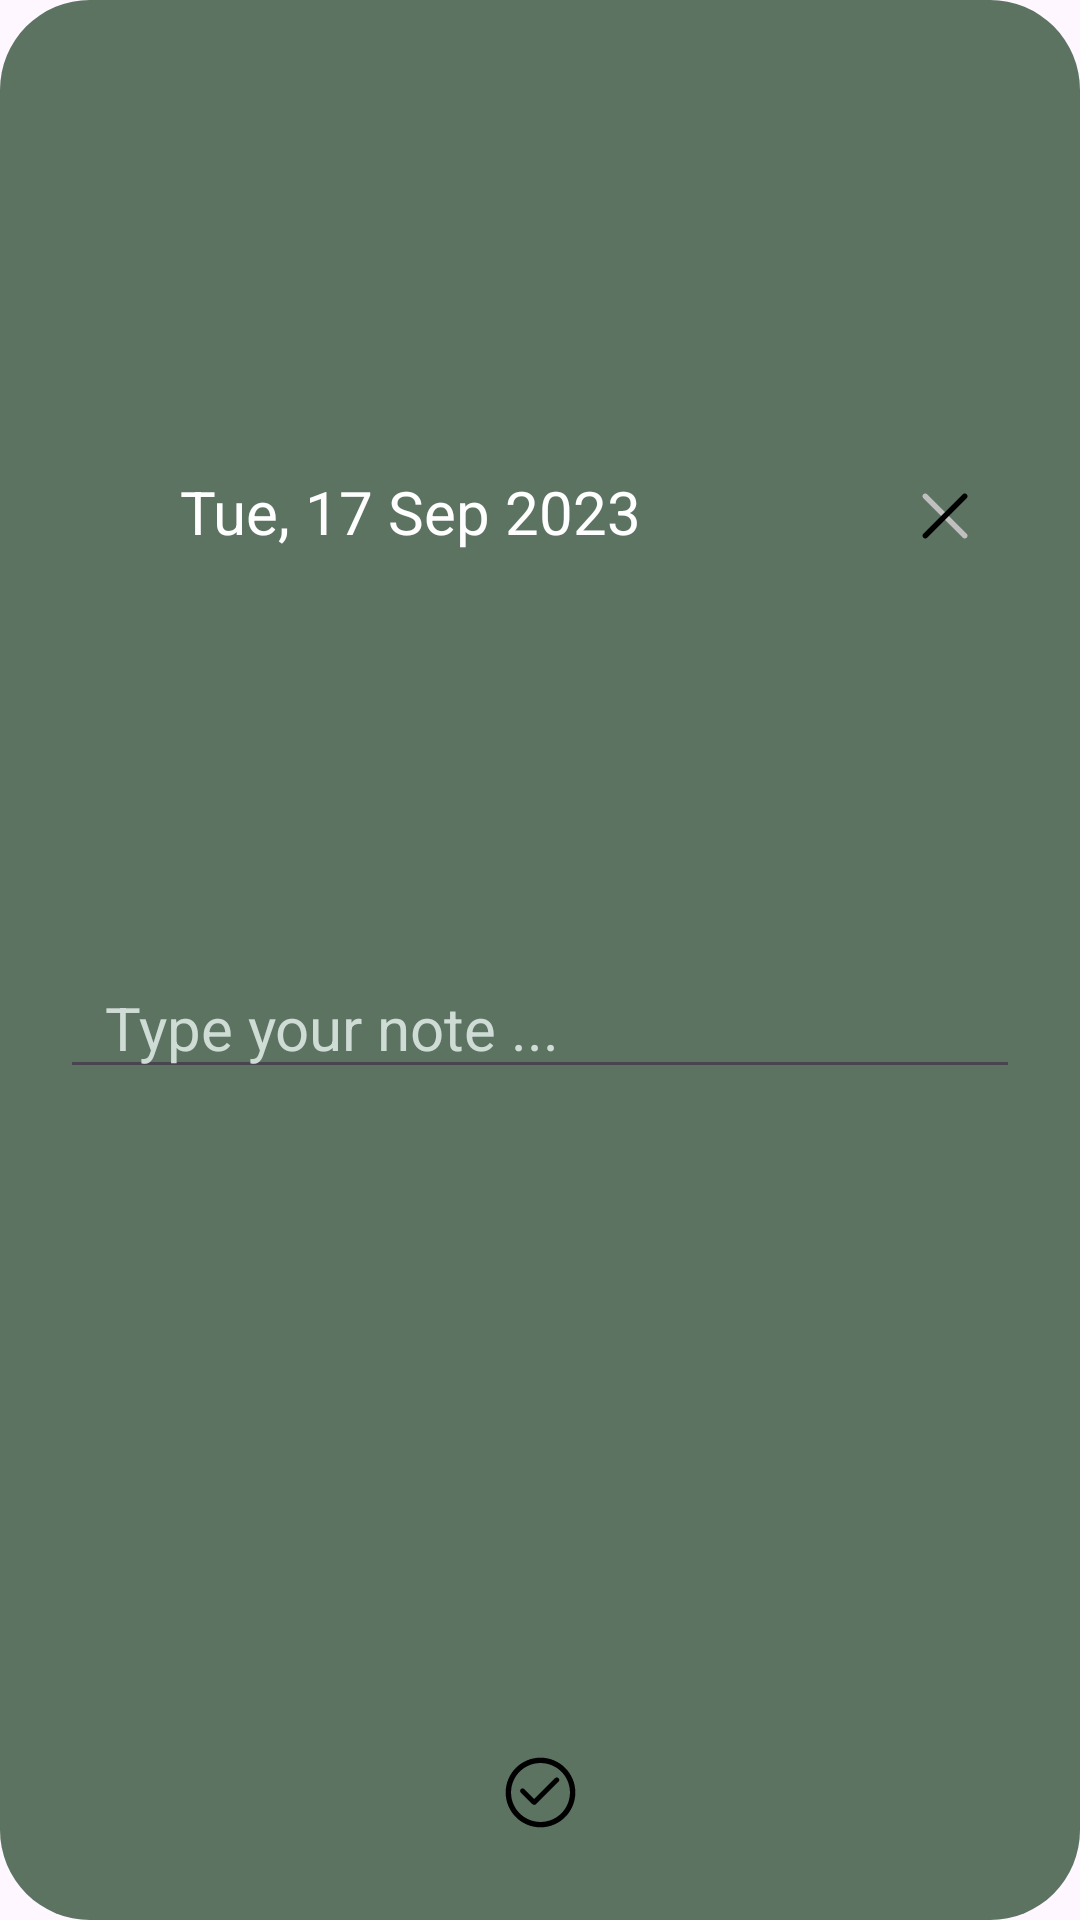

Where icons sit on this 1080px x 1920px app screen, as (x1, y1, x2, y2):
close: (922, 493, 968, 539)
done: (505, 1757, 576, 1828)
